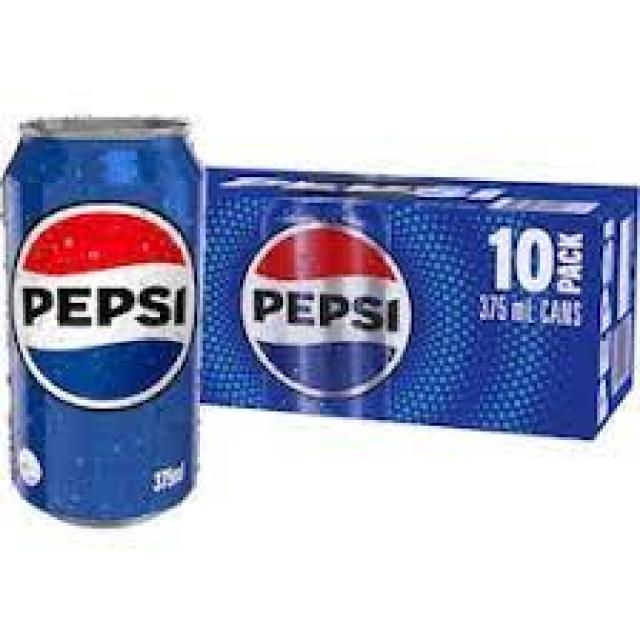Cans: (3, 106, 211, 531)
